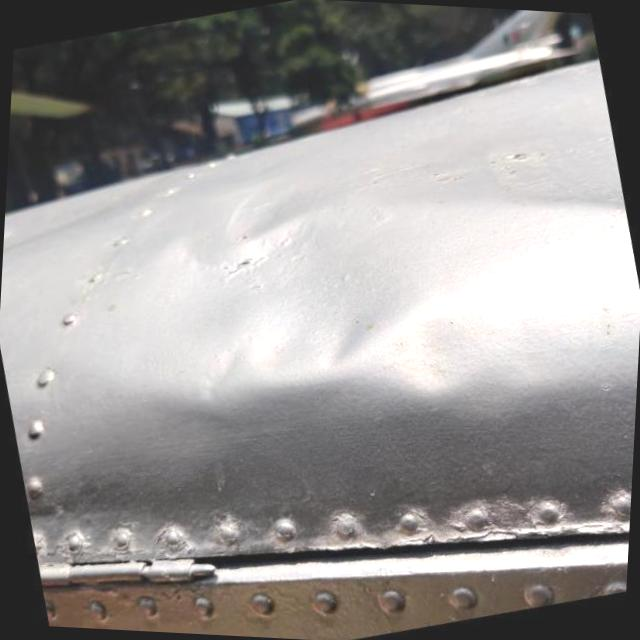dent: (72, 103, 514, 504)
